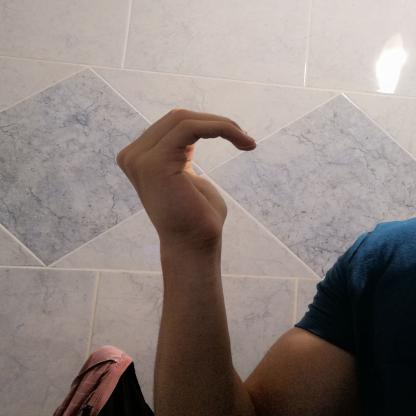HAA: (97, 100, 281, 250)
